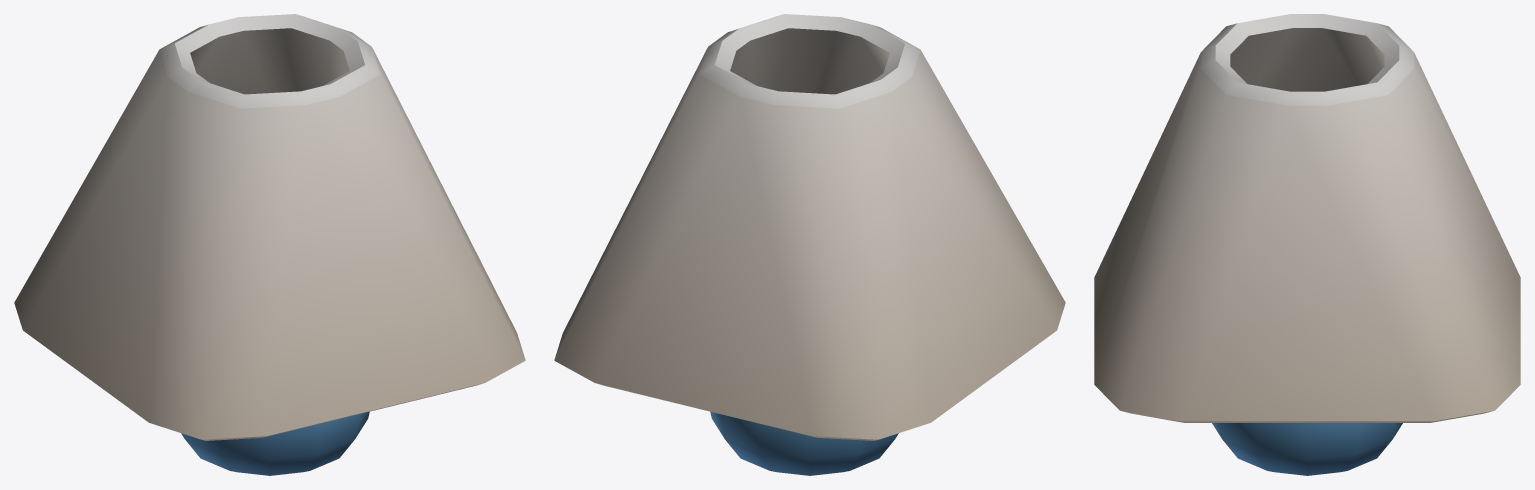
The model's file is K_lamp_table.glb.
The picture shows the model from 3 angles, left to right: view 1: azimuth 30°, elevation 25°; view 2: azimuth 150°, elevation 25°; view 3: azimuth 270°, elevation 25°; orthographic projection.
Parts seen in each view (by area): view 1: lamp_table; view 2: lamp_table; view 3: lamp_table.
Part boxes in pixels (x1,y1,x2,y2): lamp_table: [14, 14, 525, 475]; lamp_table: [554, 14, 1065, 475]; lamp_table: [1094, 14, 1520, 475].
Bounding box in the file's own units: 1 × 1.02 × 1.
